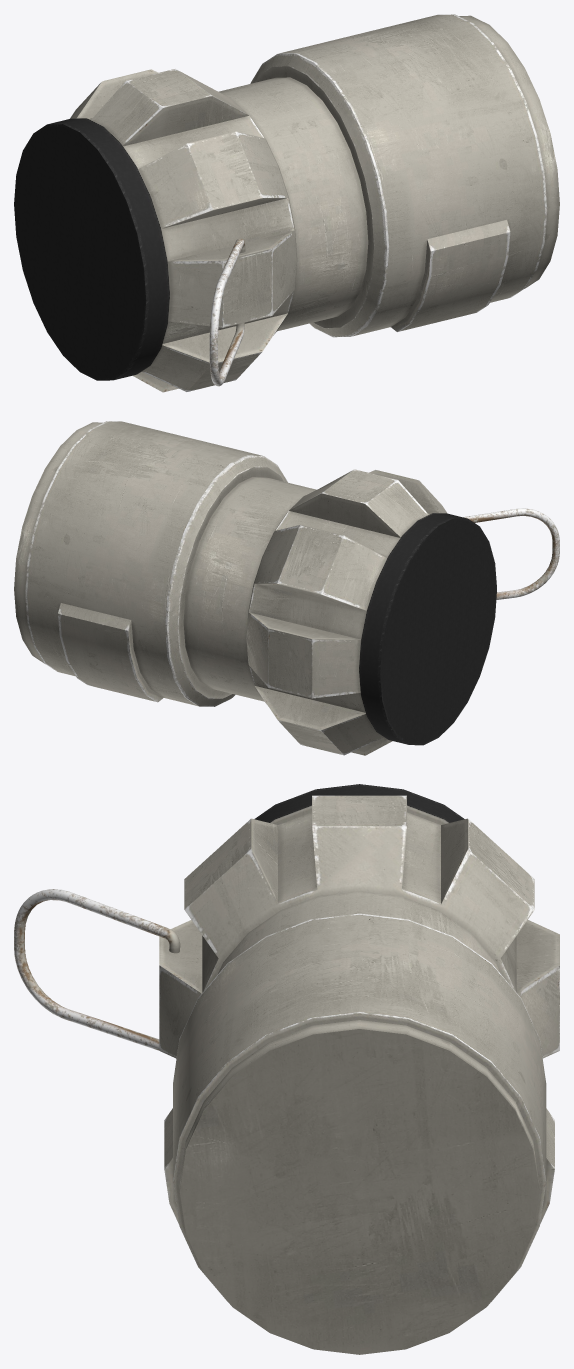
The model's file is pommel_20_r_d.glb.
3 renders of one model, top to bottom at view 1: azimuth 30°, elevation 25°; view 2: azimuth 150°, elevation 25°; view 3: azimuth 270°, elevation 25°, orthographic. The views are drawn at different scales.
Parts seen in each view (by area): view 1: pommel_20_r_d_lod0; view 2: pommel_20_r_d_lod0; view 3: pommel_20_r_d_lod0.
Boxes of the visible parts, box(x1,y1,x2,y2) form: pommel_20_r_d_lod0: box(14, 14, 559, 392); pommel_20_r_d_lod0: box(14, 421, 559, 755); pommel_20_r_d_lod0: box(14, 784, 559, 1354).
Size of what is drawn, in the model's own units: 0.0502 by 0.0331 by 0.045.
1 material, 1 textured.
